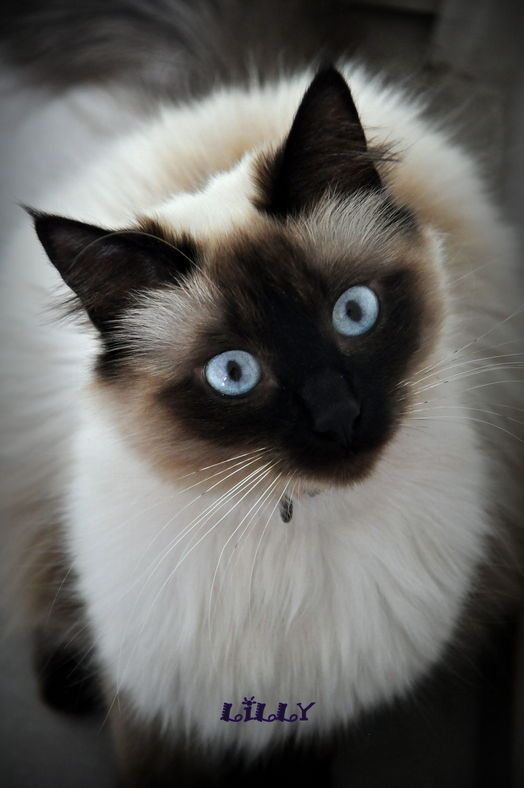cat: (1, 57, 524, 735)
